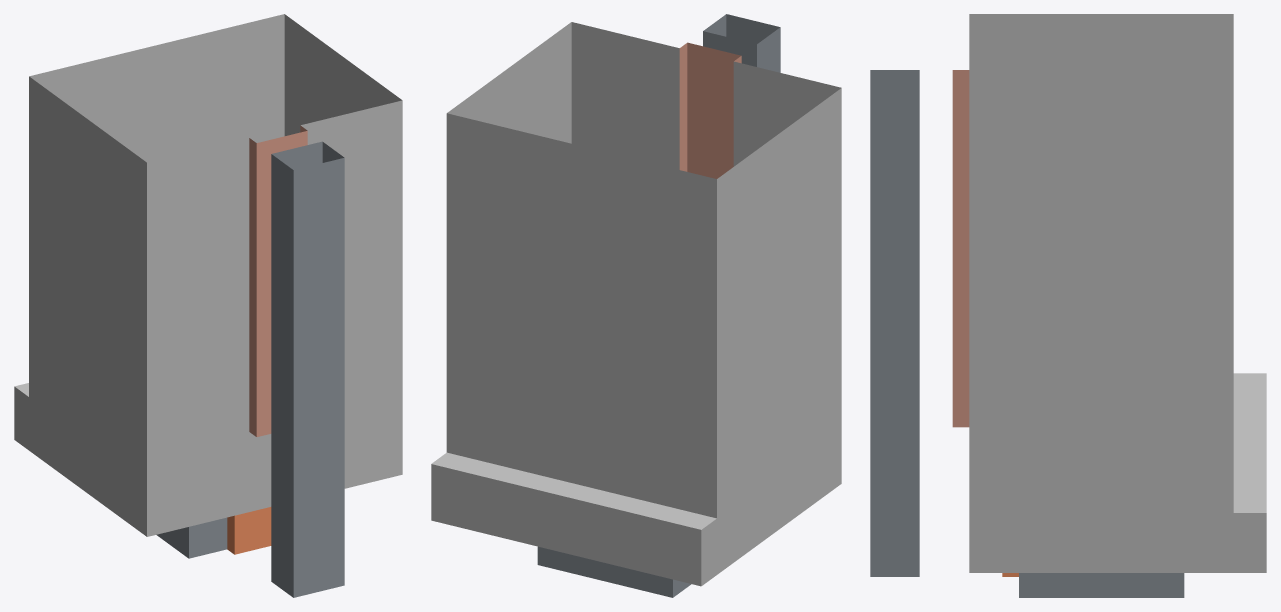
Rendered from cell_40.obj.
3 renders of one model, left to right at view 1: azimuth 30°, elevation 25°; view 2: azimuth 150°, elevation 25°; view 3: azimuth 270°, elevation 25°, orthographic. The views are drawn at different scales.
Size of the model in its own units: 0.625 by 1 by 0.75.
